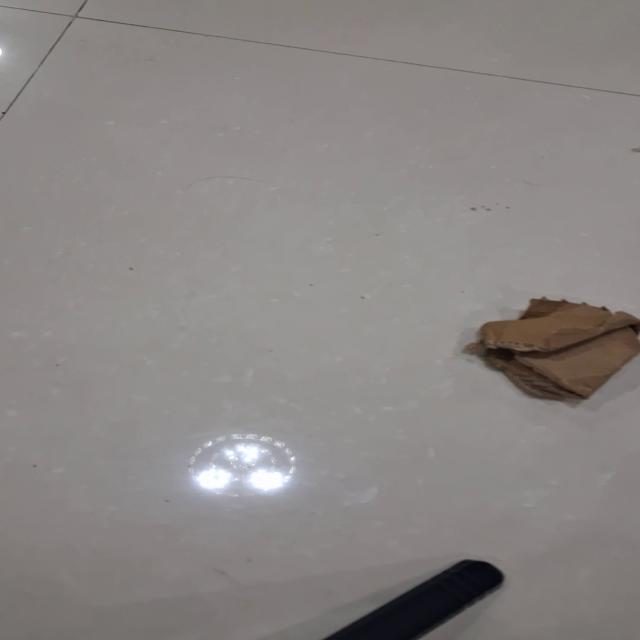paper: (468, 295, 639, 401)
